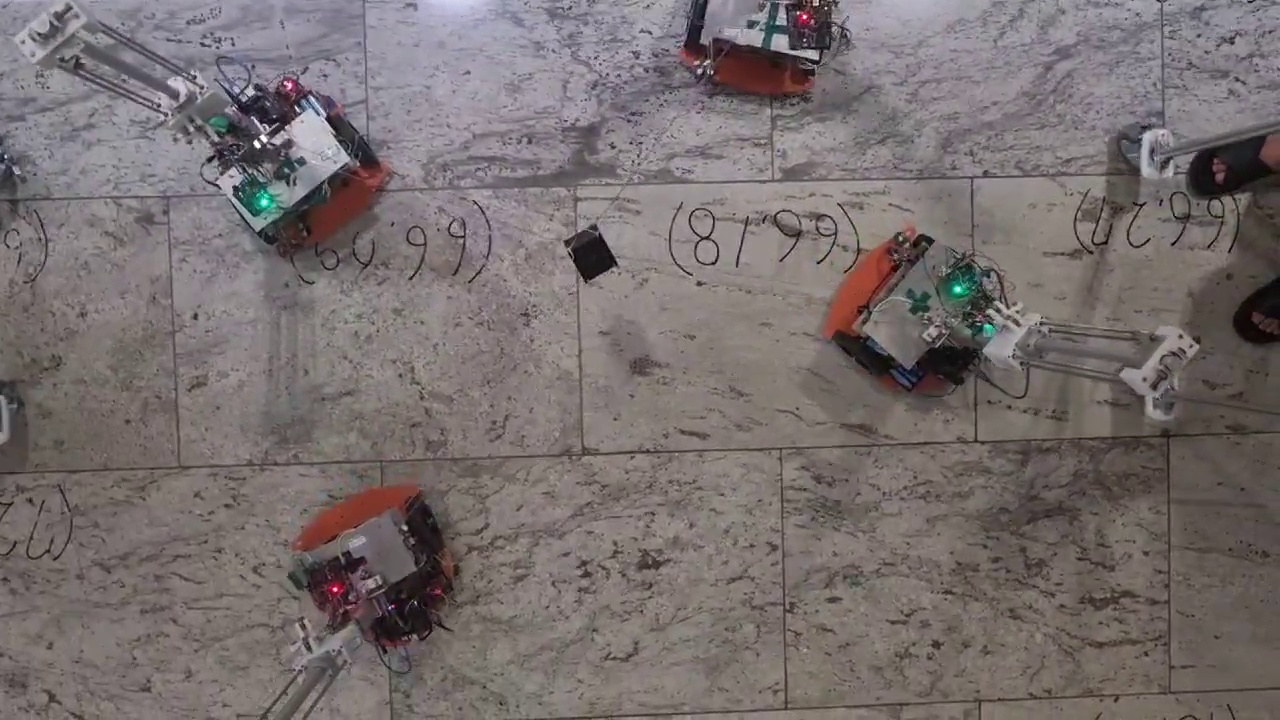e0: (562, 224, 618, 283)
r1: (830, 234, 966, 378)
r2: (684, 11, 828, 50)
r3: (228, 113, 378, 245)
r4: (299, 497, 445, 612)
y_+_axis_vector: (583, 442, 976, 455)
y_-_axis_vector: (179, 455, 583, 468)
